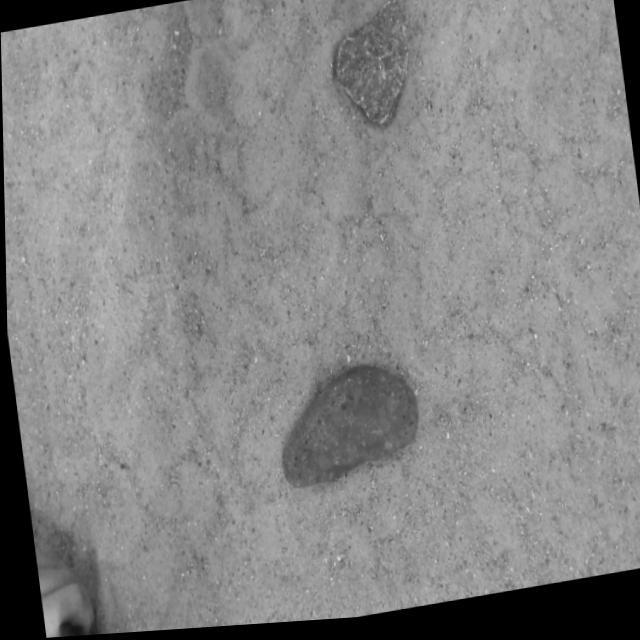rock: (280, 371, 415, 492), (335, 1, 407, 129)
